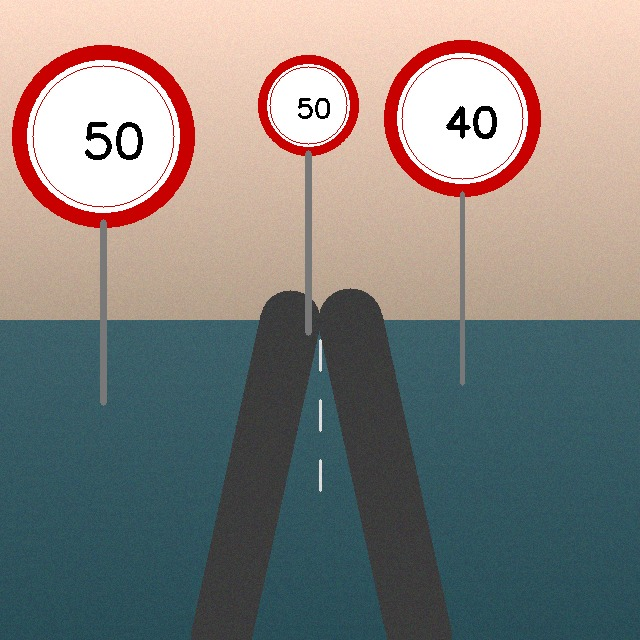velocidad: (17, 50, 189, 222), (388, 44, 537, 193), (260, 57, 356, 153)
